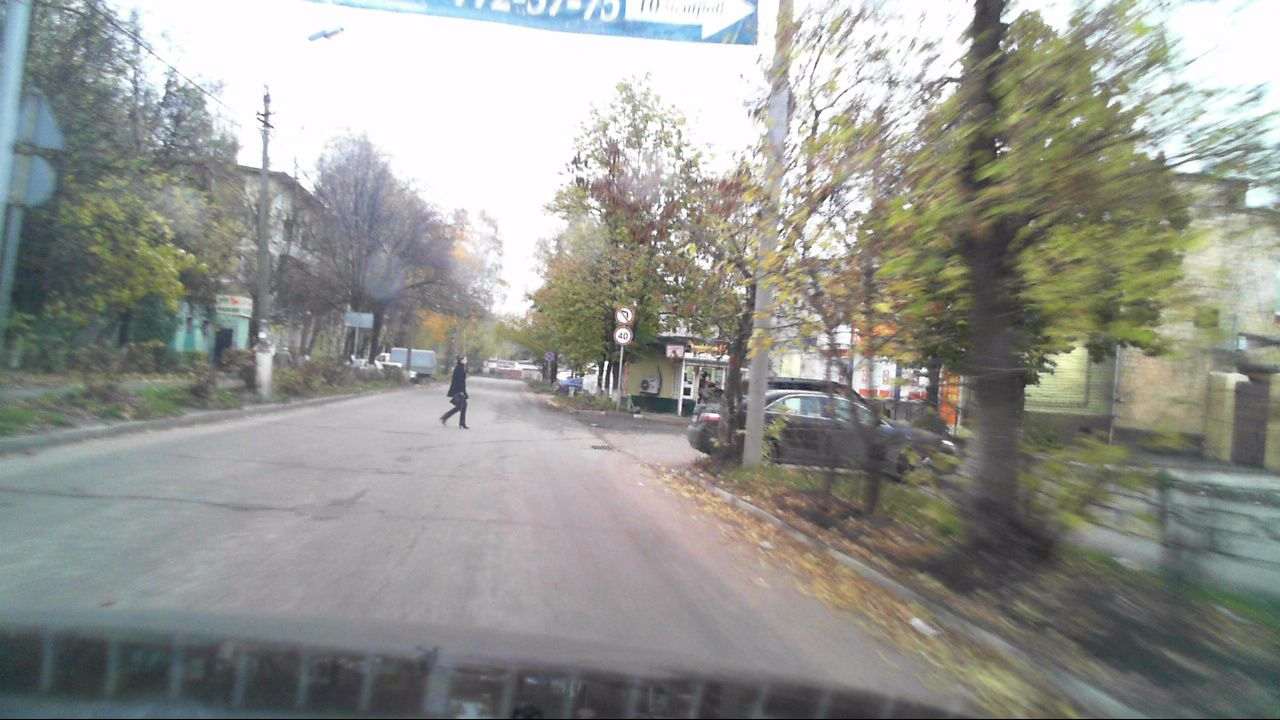speed_warning_40: (614, 328, 631, 344)
